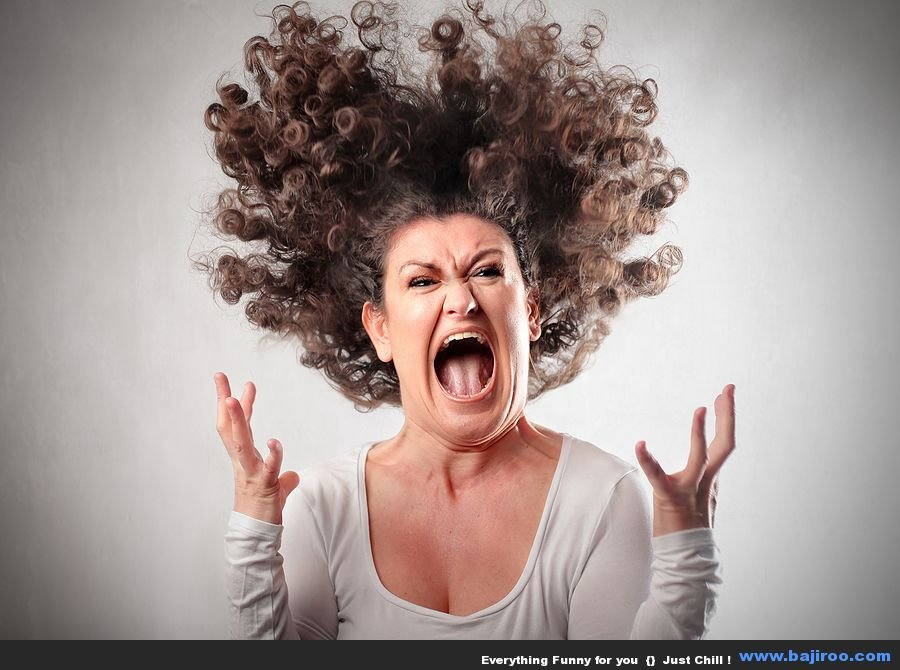angry: (385, 231, 537, 446)
